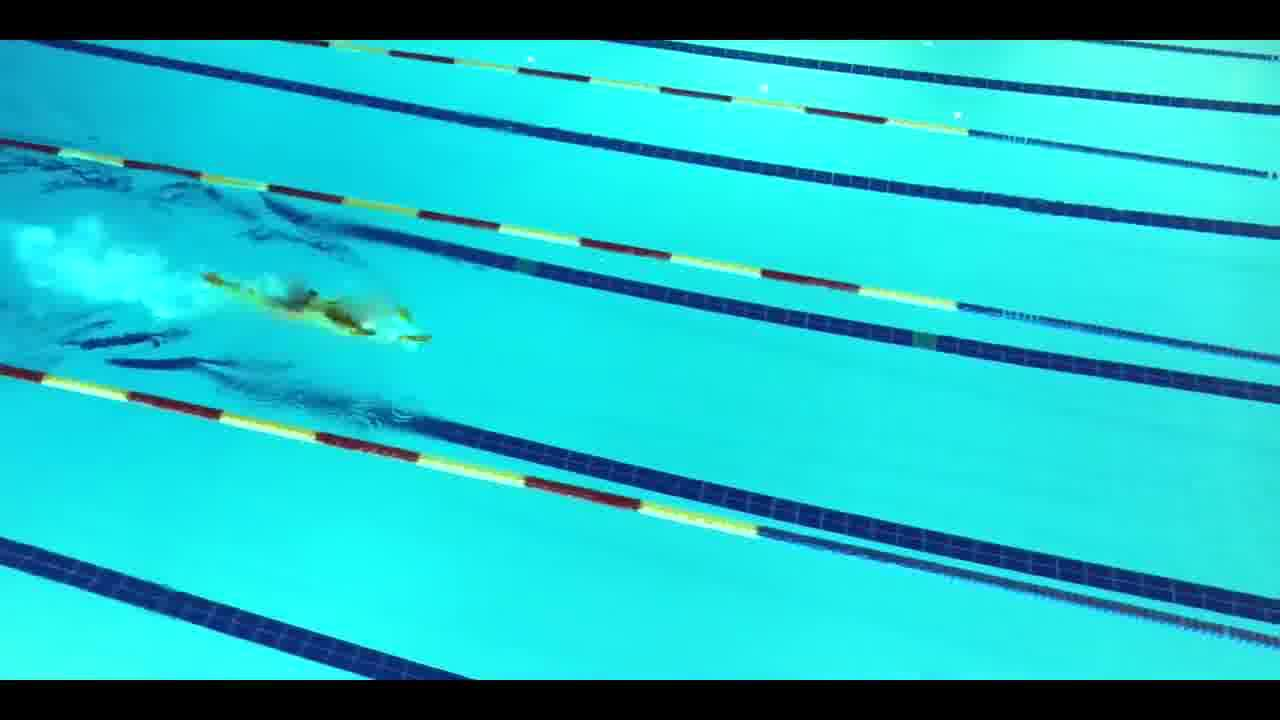swimmer: (184, 260, 439, 366)
